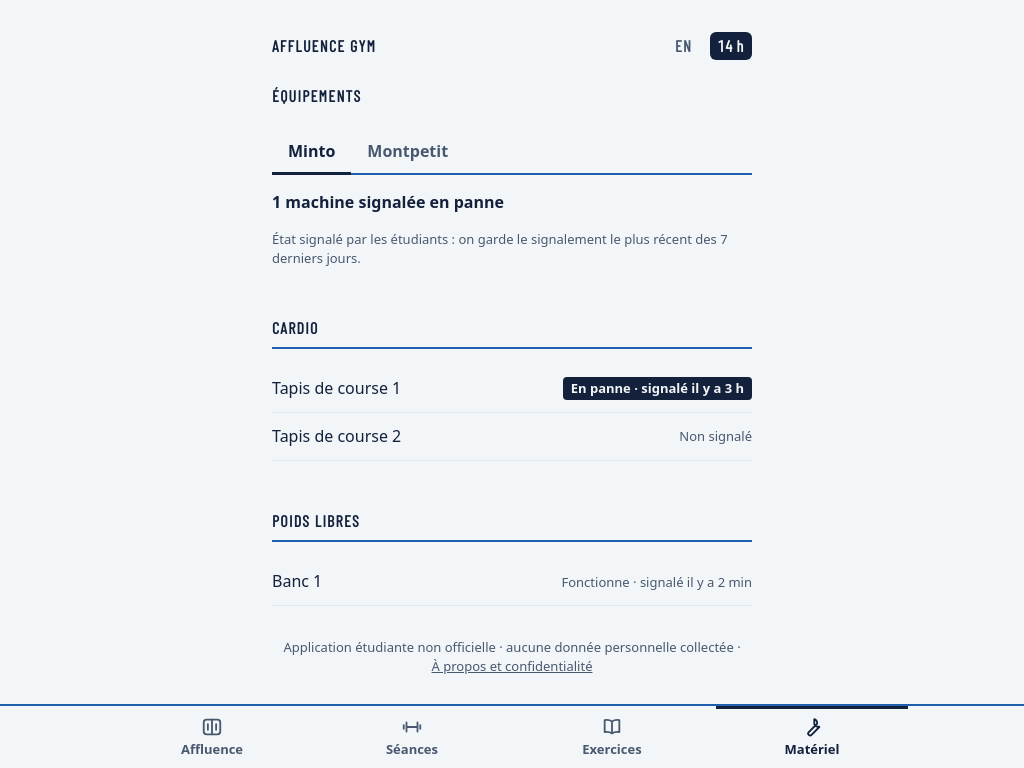
Test case: équipements › signale une panne en un tap avec l'identifiant anonyme, puis recharge l'état
Click the button with aria-label "Tapis de course 2 : Non signalé" at (340, 436), box 272,413 -> 752,461
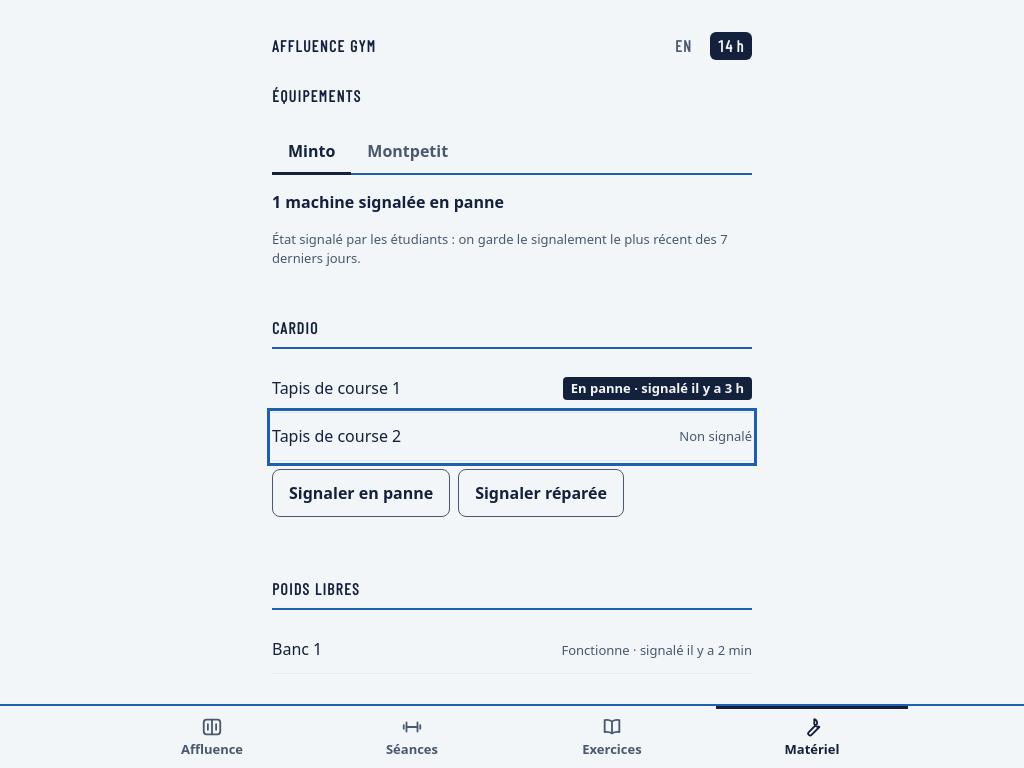
Click the button "Signaler en panne" at (361, 493), box 272,469 -> 450,517
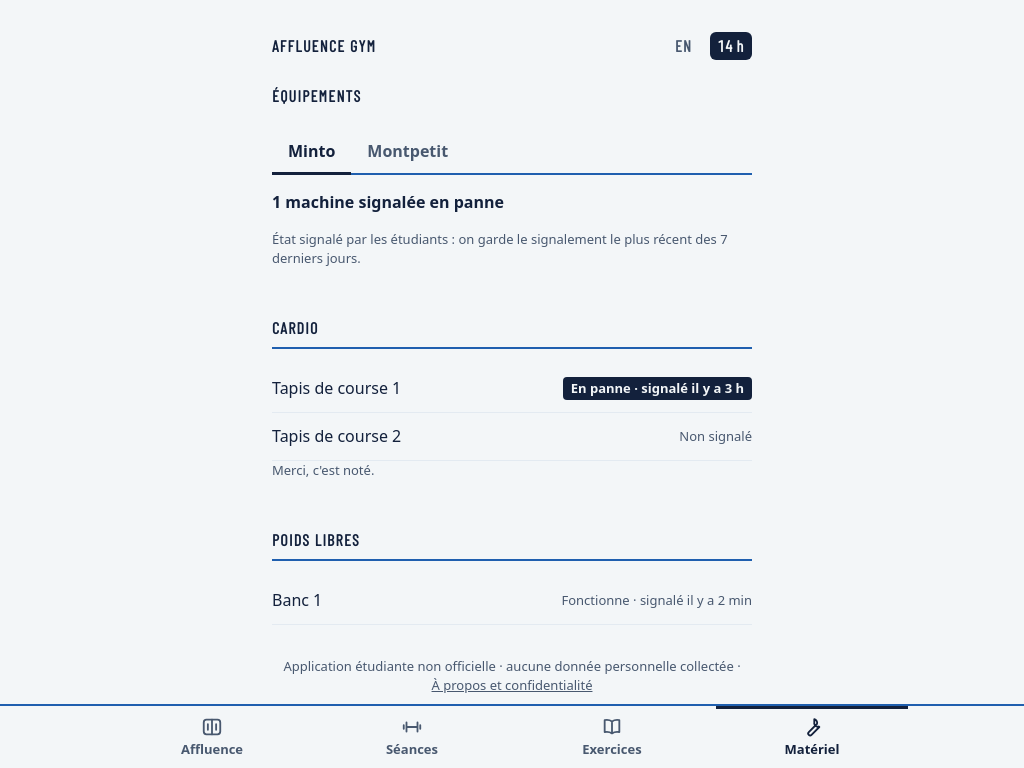
Expected: the text "Merci, c'est noté." is shown, 272,461 -> 374,479
